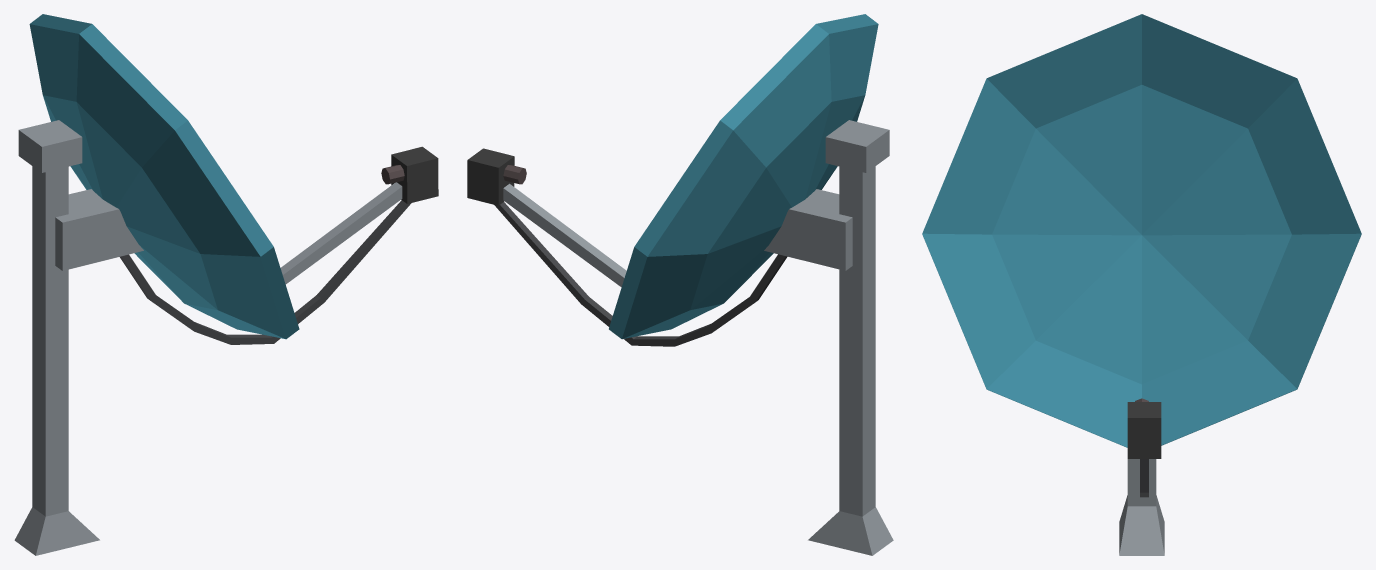
The model's file is televserion antenna.fbx.
3 views of the same model, side by side, from view 1: azimuth 30°, elevation 25°; view 2: azimuth 150°, elevation 25°; view 3: azimuth 270°, elevation 25° (orthographic). The views are drawn at different scales.
Parts seen in each view (by area): view 1: televersion antenna; view 2: televersion antenna; view 3: televersion antenna.
Boxes of the visible parts, x1=… form: televersion antenna: x1=14, y1=14, x2=438, y2=555; televersion antenna: x1=467, y1=14, x2=893, y2=555; televersion antenna: x1=922, y1=14, x2=1361, y2=555.
Size of the model in its own units: 85.88 by 102 by 75.15.
Materials: 1 (1 with a texture image).
